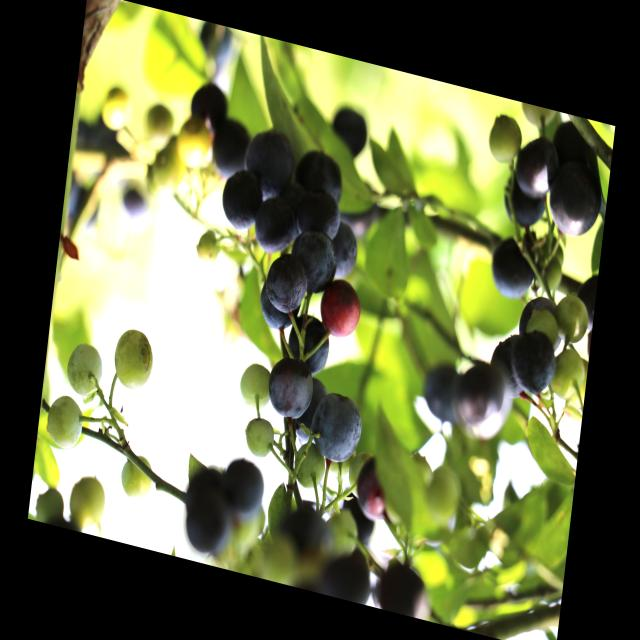blueberry: (448, 356, 511, 445), (307, 382, 367, 474), (546, 164, 606, 241), (237, 122, 296, 200), (483, 228, 538, 311), (504, 326, 560, 401), (263, 356, 318, 428), (218, 164, 268, 238), (292, 189, 348, 253), (285, 311, 335, 381), (293, 230, 341, 301), (513, 137, 564, 203), (292, 142, 346, 204), (263, 252, 311, 319), (221, 456, 269, 521), (254, 197, 298, 260), (208, 114, 249, 178), (185, 80, 230, 138), (327, 225, 361, 286)
blueberry-halfripe: (316, 280, 364, 345)
blueberry-unripe: (62, 460, 114, 538), (60, 329, 110, 407), (109, 321, 159, 396), (44, 390, 87, 452), (236, 359, 276, 418), (553, 287, 590, 349), (290, 440, 330, 496), (548, 346, 586, 404), (486, 114, 524, 171), (118, 448, 154, 506), (243, 415, 278, 463)
